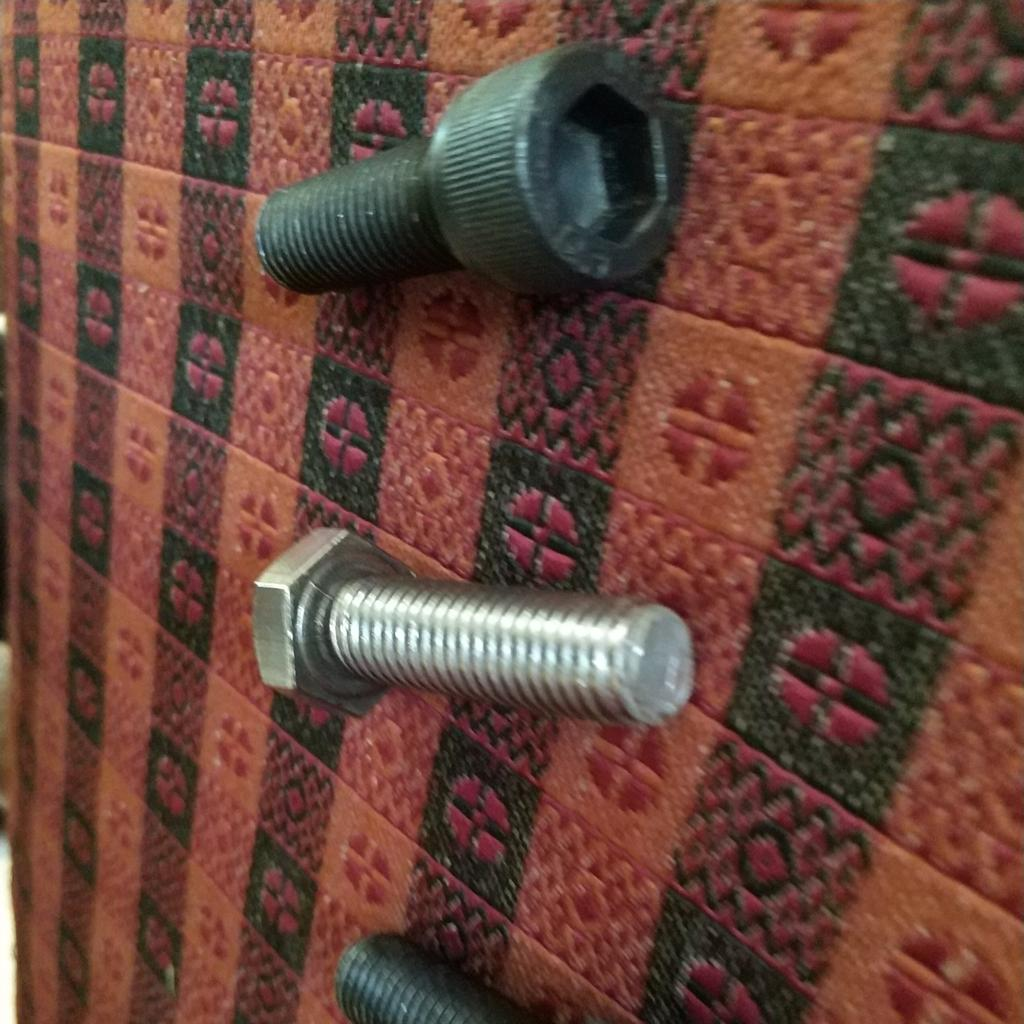screwtype1black: (247, 33, 679, 307)
screwtype2silver: (238, 517, 697, 759)
